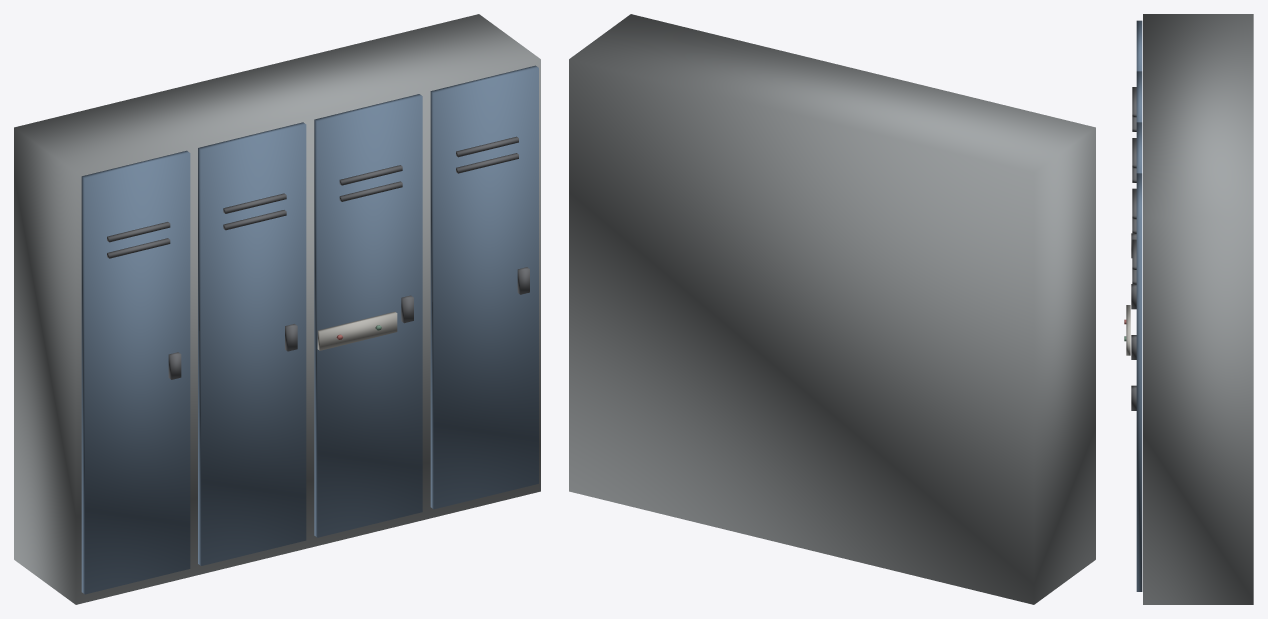
The model's file is locker_bank__wide.glb.
3 renders of one model, left to right at view 1: azimuth 30°, elevation 25°; view 2: azimuth 150°, elevation 25°; view 3: azimuth 270°, elevation 25°, orthographic. The views are drawn at different scales.
Parts seen in each view (by area): view 1: world; view 2: world; view 3: world.
Boxes of the visible parts, x1,y1,x2,y2 form: world: (14,14,540,604); world: (569,14,1095,604); world: (1124,14,1253,604).
Bounding box in the file's own units: 2.08 × 1.85 × 0.561.
